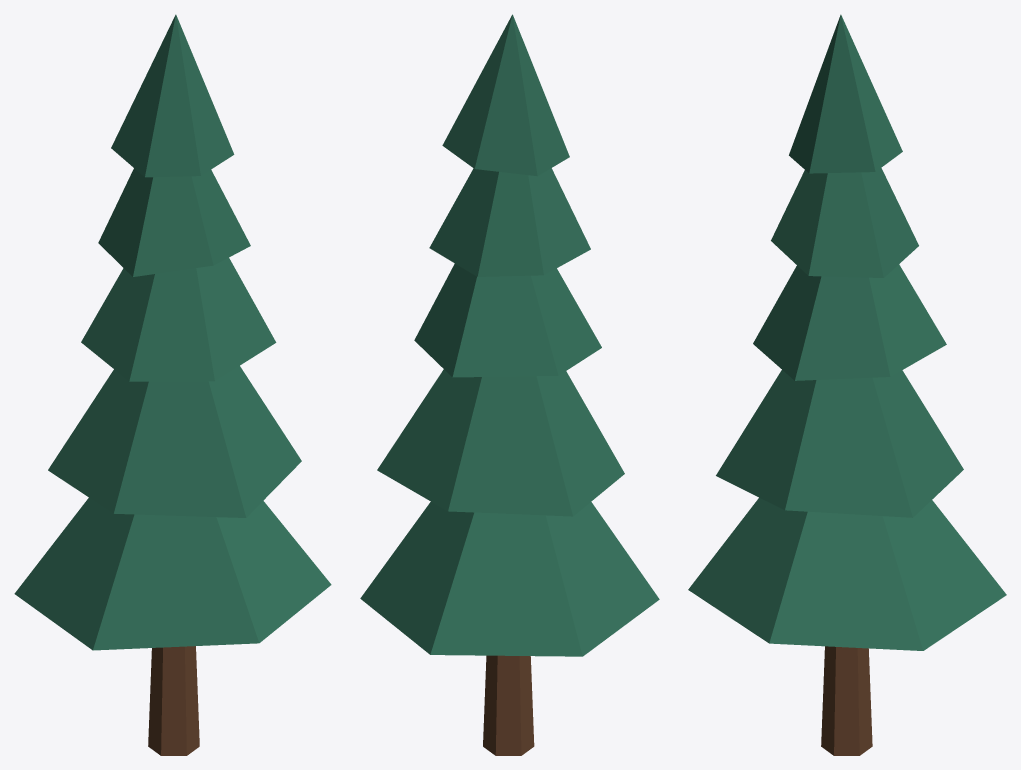
File: PineTall_C.glb
The picture shows the model from 3 angles, left to right: view 1: azimuth 30°, elevation 25°; view 2: azimuth 150°, elevation 25°; view 3: azimuth 270°, elevation 25°; orthographic projection.
Parts seen in each view (by area): view 1: PineTall_C; view 2: PineTall_C; view 3: PineTall_C.
Part boxes in pixels (x1,y1,x2,y2): PineTall_C: (14,14,331,755); PineTall_C: (360,14,659,755); PineTall_C: (688,14,1006,755).
Size of the model in its own units: 2.53 by 7.53 by 2.97.
